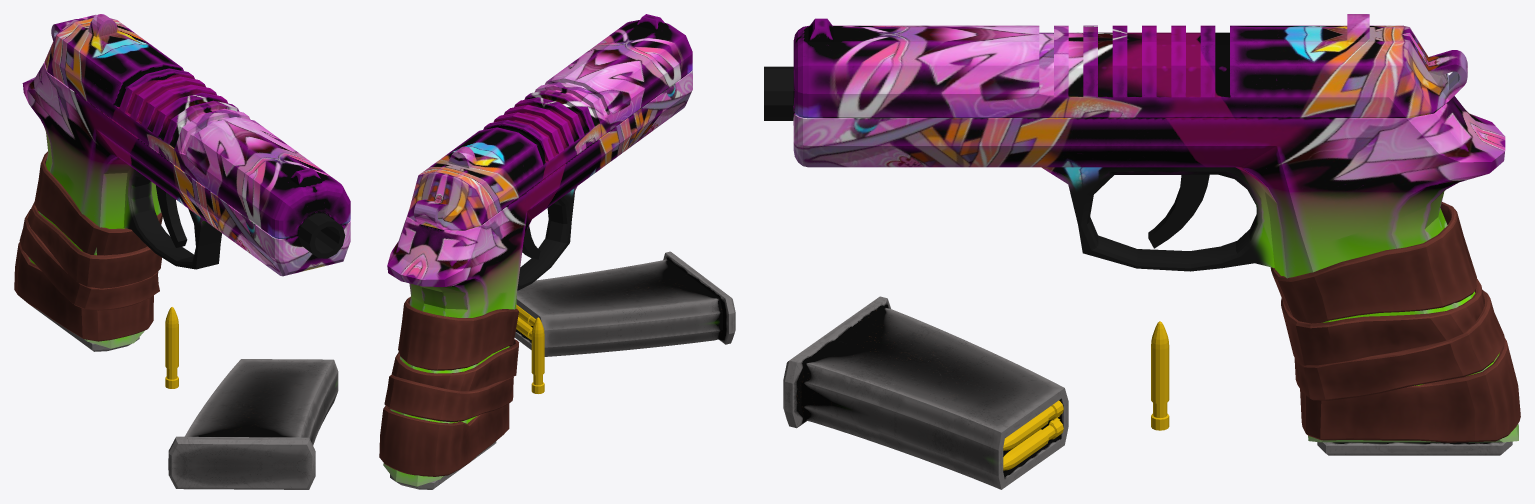
File: gune  2.2.fbx
3 renders of one model, left to right at view 1: azimuth 30°, elevation 25°; view 2: azimuth 150°, elevation 25°; view 3: azimuth 270°, elevation 25°, orthographic. The views are drawn at different scales.
Visible parts, largest first — view 1: Cube, slide, magazie, bullet, Trigger, magazie.001; view 2: Cube, slide, magazie, bullet; view 3: Cube, slide, magazie, magazie.001, Trigger, bullet.
Part boxes in pixels (x1,y1,x2,y2): Cube: (14, 62, 350, 348); slide: (44, 14, 350, 238); magazie: (168, 359, 338, 489); bullet: (165, 307, 178, 388); Trigger: (156, 185, 187, 247); magazie.001: (29, 304, 139, 351); Cube: (379, 70, 692, 486); slide: (407, 14, 692, 230); magazie: (514, 251, 735, 356); bullet: (531, 317, 544, 393); Cube: (764, 66, 1520, 442); slide: (793, 14, 1467, 118); magazie: (783, 296, 1068, 489); magazie.001: (1317, 441, 1512, 455); Trigger: (1148, 174, 1209, 248); bullet: (1151, 321, 1169, 430).
Size of the model in its own units: 7.09 by 10.25 by 16.47.
